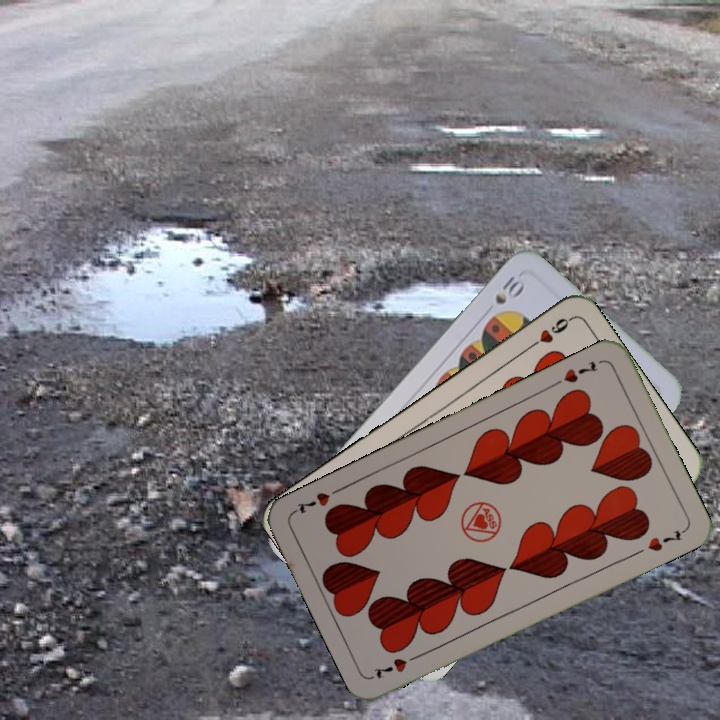H7: (370, 649, 425, 682), (549, 357, 601, 389)
H9: (523, 313, 574, 353)
S10: (490, 271, 527, 307)
